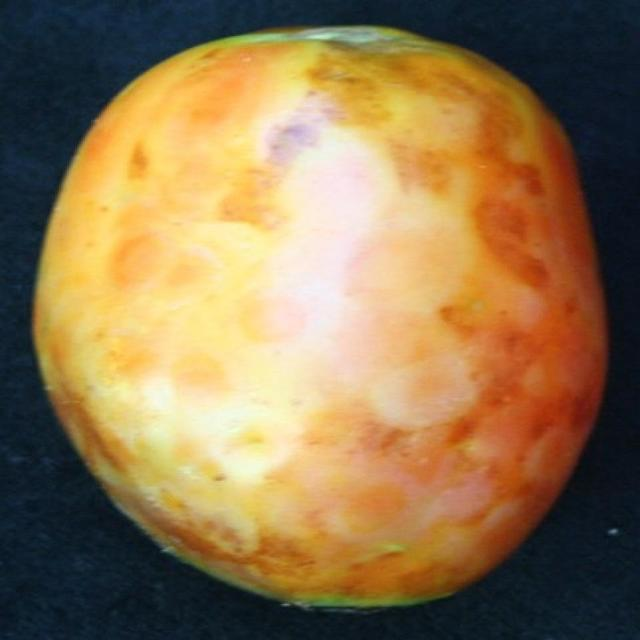Spotted wilt Virus Fruit: (23, 13, 408, 406)
